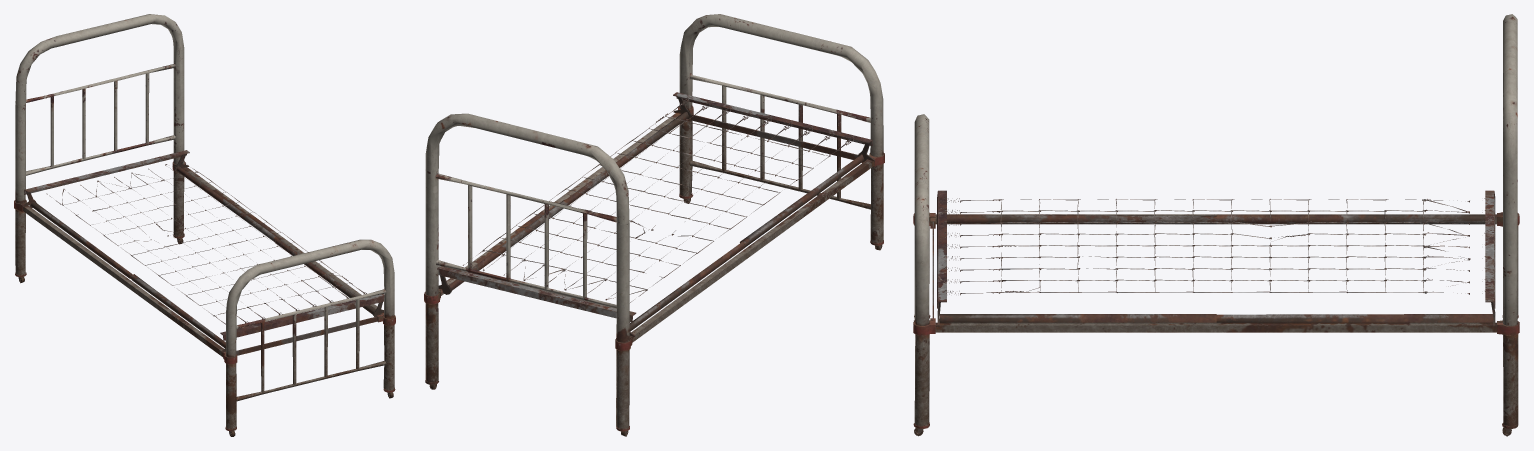
The model's file is old_bed_frame.glb.
The picture shows the model from 3 angles, left to right: view 1: azimuth 30°, elevation 25°; view 2: azimuth 150°, elevation 25°; view 3: azimuth 270°, elevation 25°; orthographic projection. The views are drawn at different scales.
Parts seen in each view (by area): view 1: old_bed_frame; view 2: old_bed_frame; view 3: old_bed_frame.
Boxes of the visible parts, x1,y1,x2,y2 form: old_bed_frame: [14, 14, 395, 436]; old_bed_frame: [424, 14, 884, 436]; old_bed_frame: [913, 14, 1519, 436].
Size of the model in its own units: 0.9047 by 1.2 by 2.
1 material, 1 textured.
